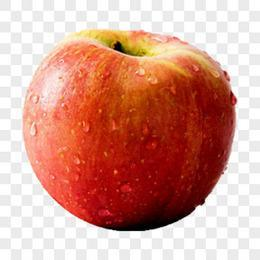apple: (21, 31, 236, 234)
